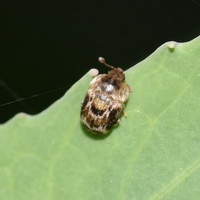insect: (81, 57, 131, 133)
